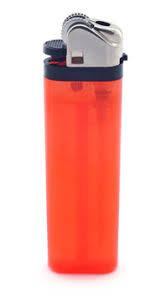lighter: (41, 13, 126, 277)
